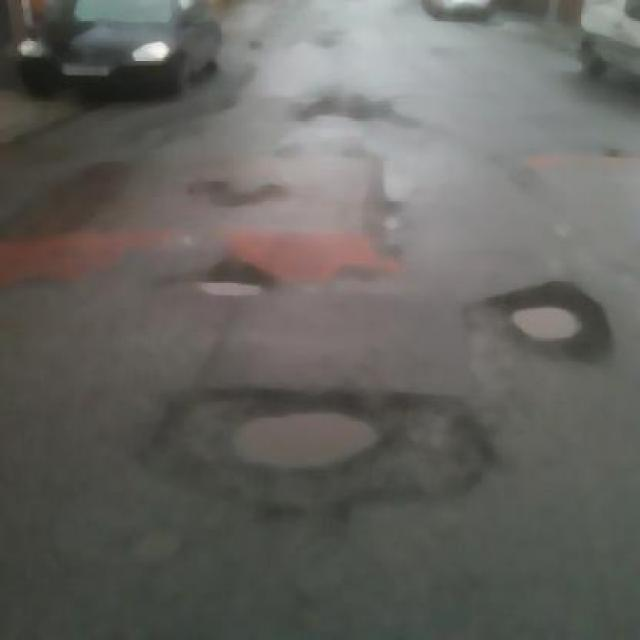Pothole: (184, 360, 382, 489), (495, 232, 614, 372)
